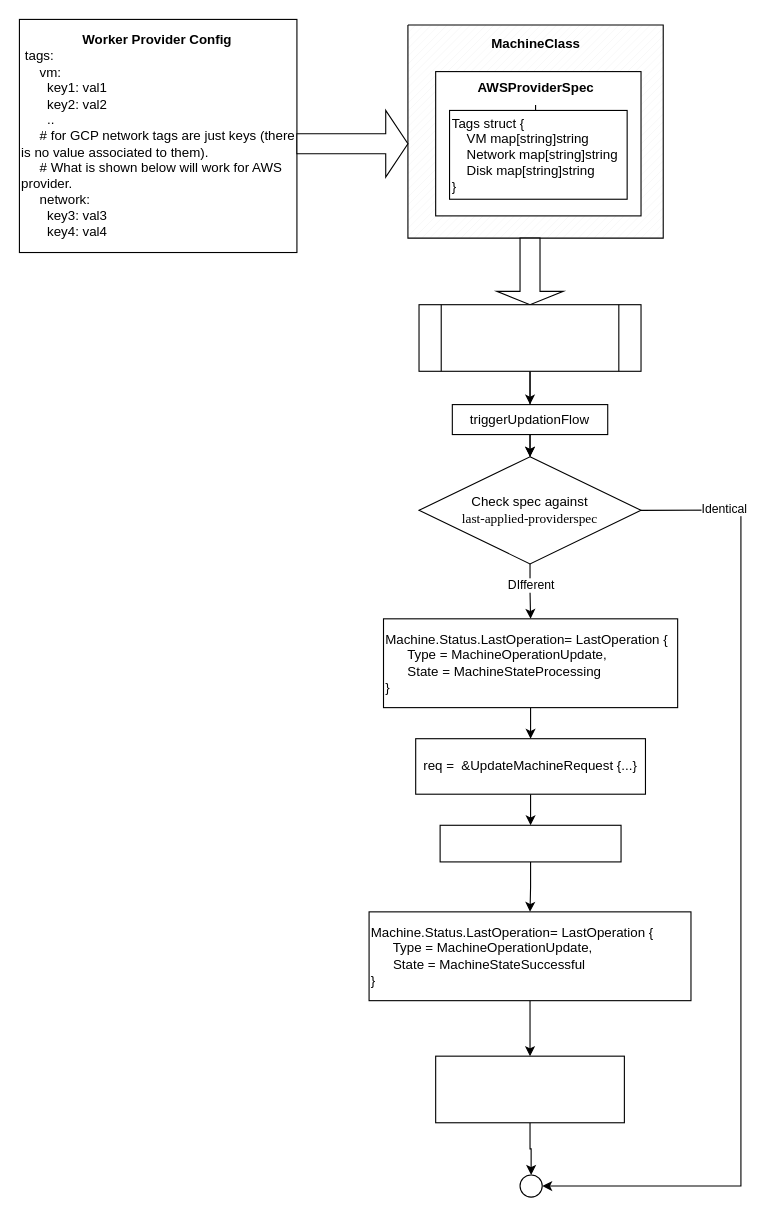
Some shapes in this 769 by 1217 pixel diagram are drawn without their labels. The shapes that lost their labels are listed below. From the top down, each one's centre as x and y in pixels, then its label:
At point 352,143: "mapped to".
At point 529,337: "MachineController (reconcileClusterMachine)".
At point 530,843: "Driver.UpdateMachine(req)".
At point 529,1089: "Update machine last-applied-providerspec annotation".
